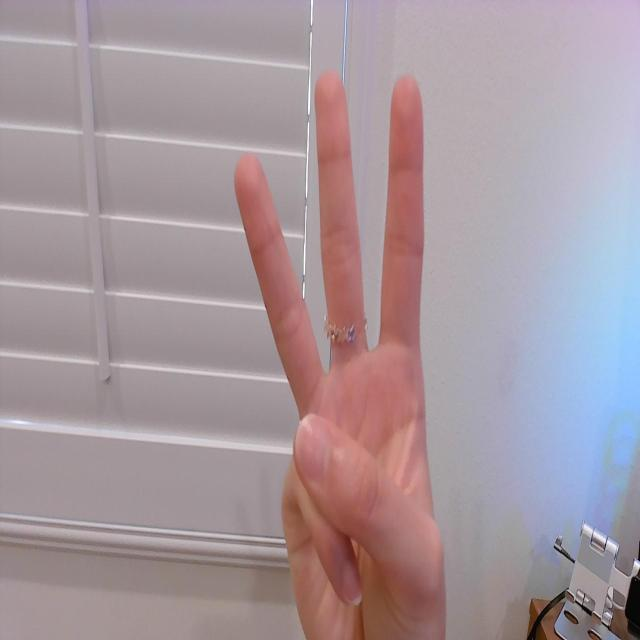W: (233, 56, 451, 640)
